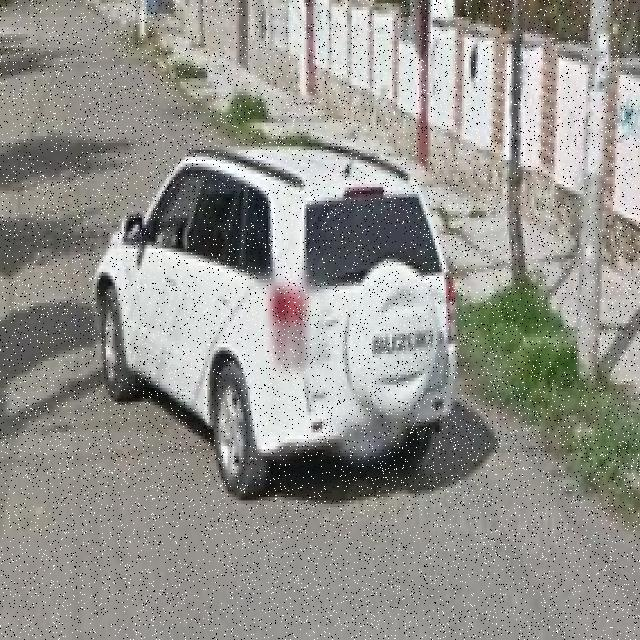cars: (90, 99, 458, 500)
